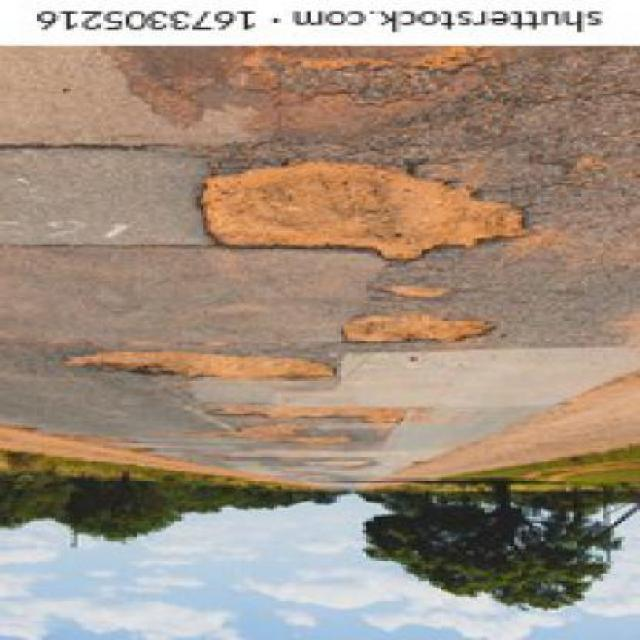Pothole: (205, 162, 524, 259), (65, 351, 332, 378), (341, 312, 492, 342), (381, 285, 450, 298)
